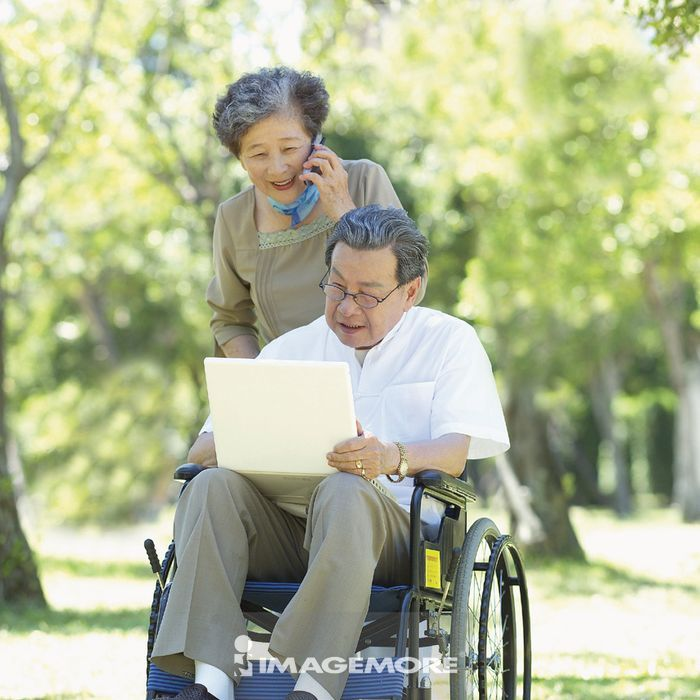talk: (247, 128, 348, 215)
